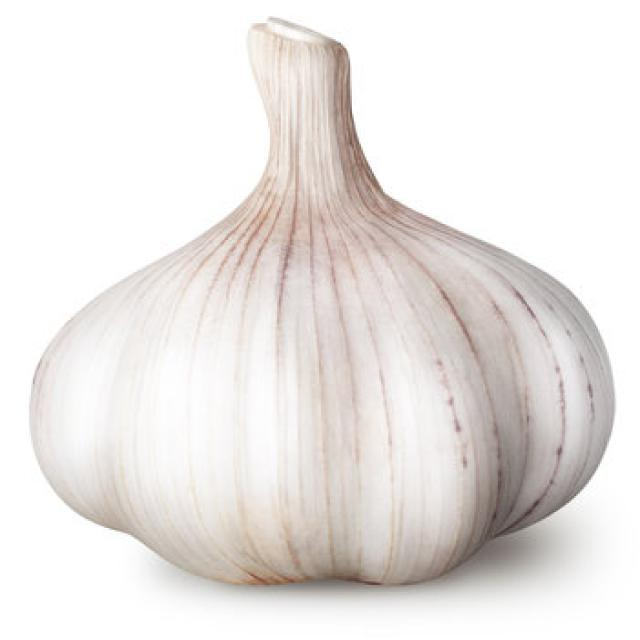garlic: (10, 198, 622, 580)
